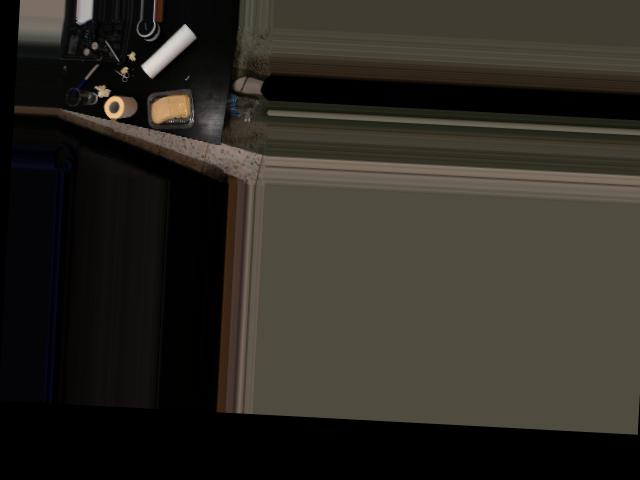cheese: (144, 85, 201, 133)
